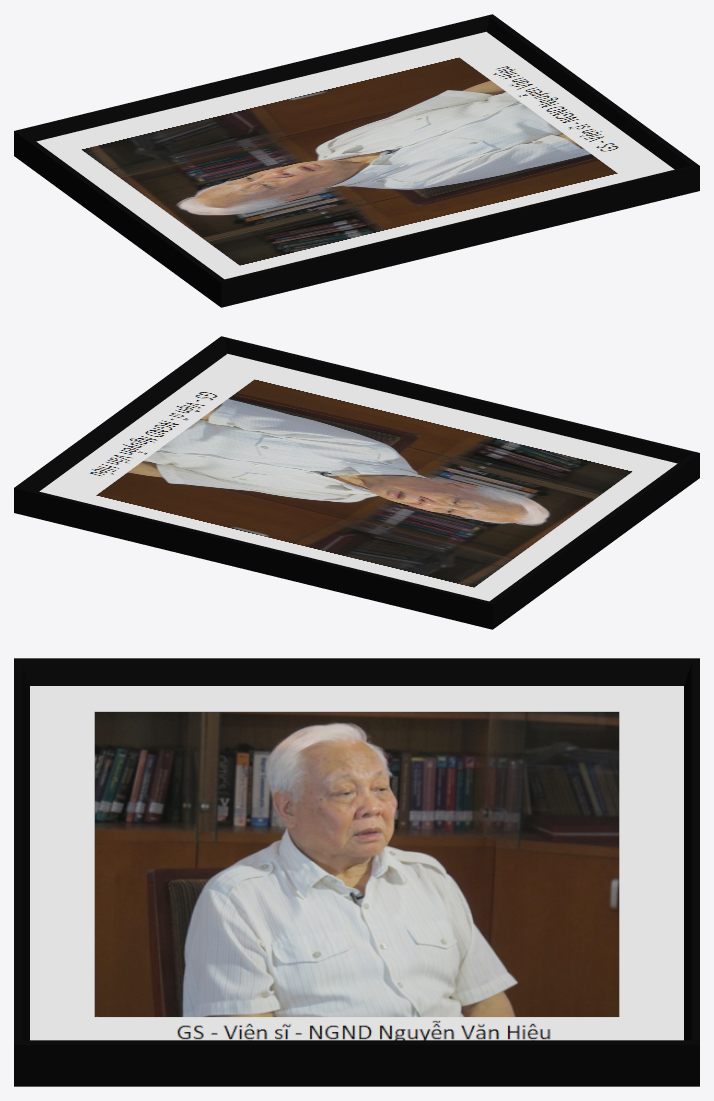
Rendered from Khung_anh_ngang.obj.
3 renders of one model, top to bottom at view 1: azimuth 30°, elevation 25°; view 2: azimuth 150°, elevation 25°; view 3: azimuth 270°, elevation 25°, orthographic. The views are drawn at different scales.
Visible parts, largest first — view 1: Plane, Cube; view 2: Plane, Cube; view 3: Plane, Cube.
Part boxes in pixels (bbox=[...]): Plane: bbox=[36, 31, 674, 279]; Cube: bbox=[14, 14, 699, 307]; Plane: bbox=[39, 353, 677, 601]; Cube: bbox=[14, 336, 699, 629]; Plane: bbox=[30, 686, 683, 1040]; Cube: bbox=[14, 658, 699, 1086].
Bounding box in the file's own units: 0.4 × 0.02 × 0.3.
2 materials, 1 textured.
